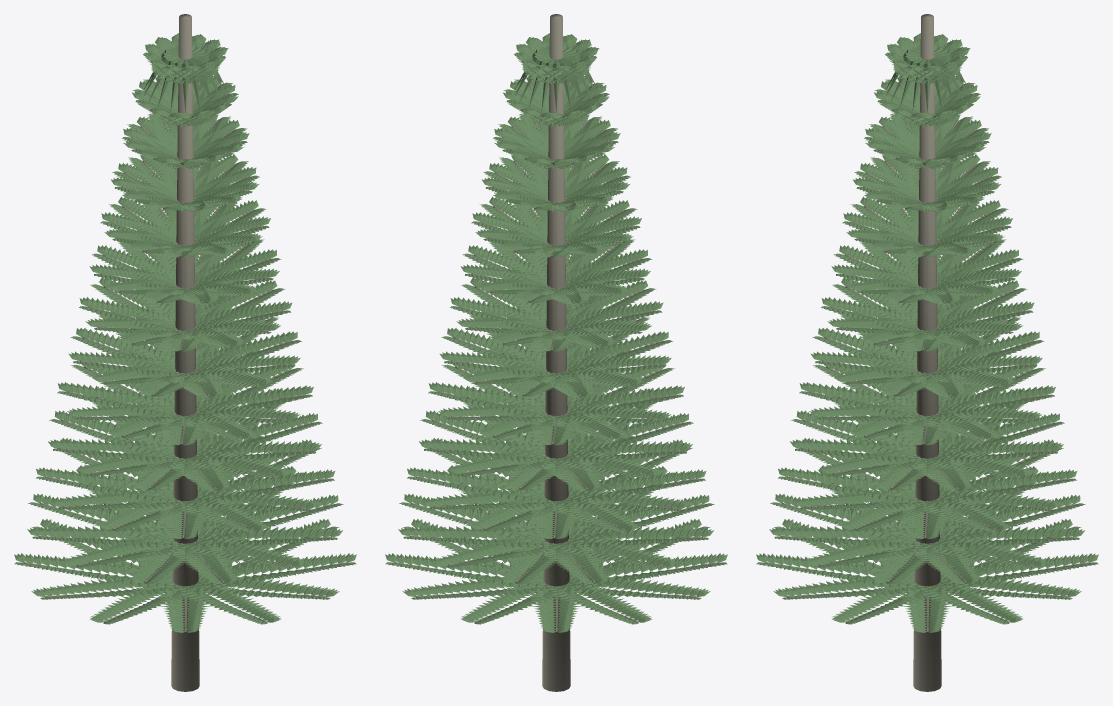
File: dongpo-norfolk-pine.glb
3 views of the same model, side by side, from view 1: azimuth 30°, elevation 25°; view 2: azimuth 150°, elevation 25°; view 3: azimuth 270°, elevation 25° (orthographic).
Visible parts, largest first — view 1: dongpo-norfolk-pine; view 2: dongpo-norfolk-pine; view 3: dongpo-norfolk-pine.
Part boxes in pixels (bbox=[...]): dongpo-norfolk-pine: bbox=[14, 14, 356, 691]; dongpo-norfolk-pine: bbox=[385, 14, 727, 691]; dongpo-norfolk-pine: bbox=[756, 14, 1098, 691].
Bounding box in the file's own units: 4.55 × 9.8 × 4.55.
